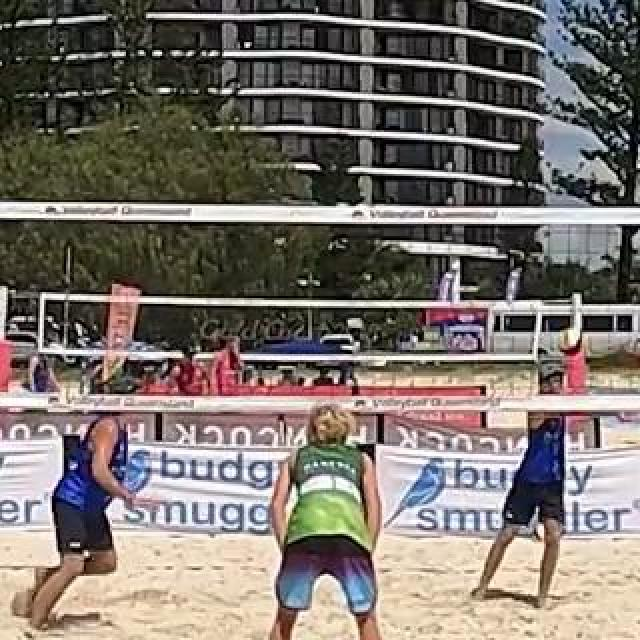volleyball: (558, 328, 586, 356)
